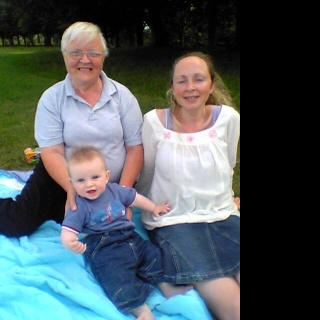without_mask: (62, 31, 104, 87), (172, 57, 211, 110), (71, 165, 106, 200)
